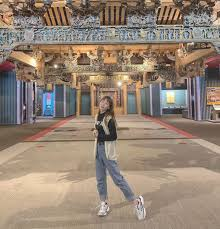people: (92, 96, 146, 220)
